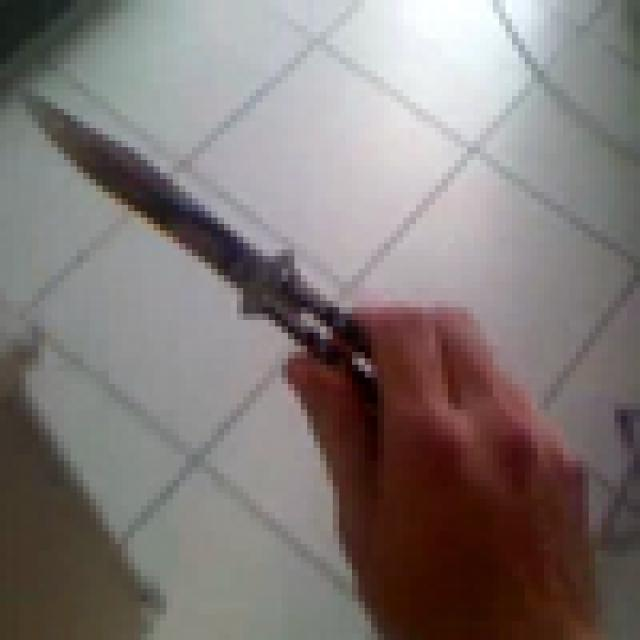Knife: (0, 70, 448, 468)
